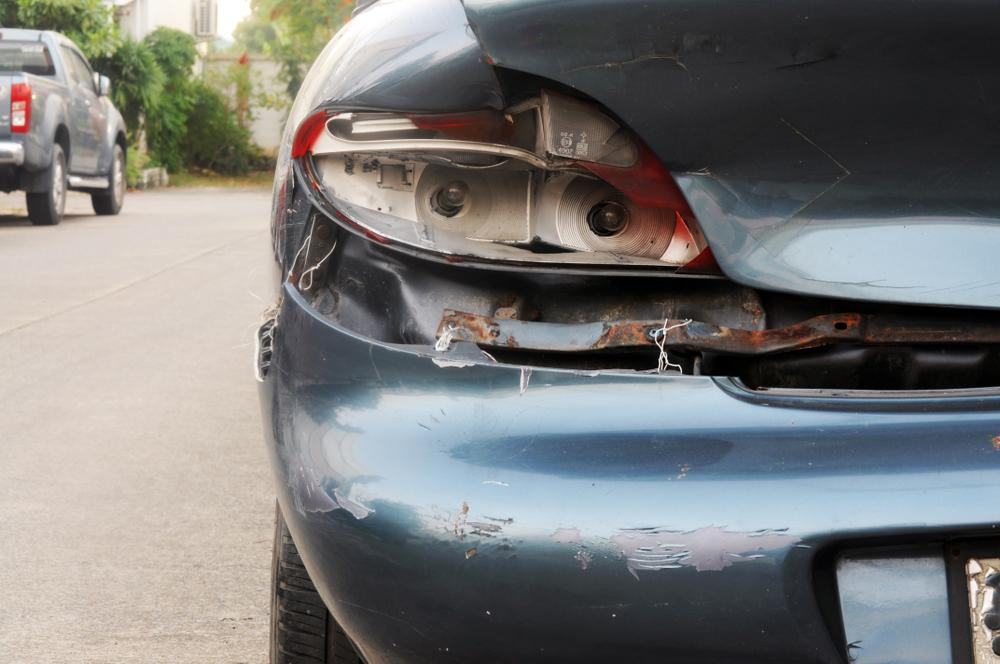dent: (333, 257, 414, 342)
lamp broken: (294, 68, 711, 270)
scratch: (283, 469, 806, 583)
